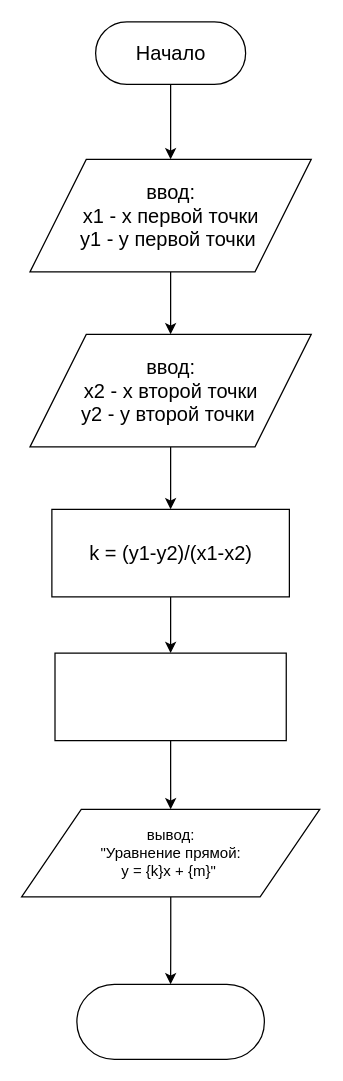
Some shapes in this 343 by 1081 pixel diagram are drawn without their labels. Each missing label, with the centre of its shape:
"m = y1 - (x1 * k)" belongs at pixel 170 696.
"Конец" belongs at pixel 170 1021.
